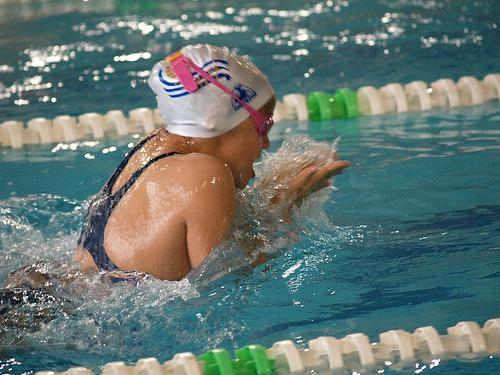human: (44, 39, 340, 299)
